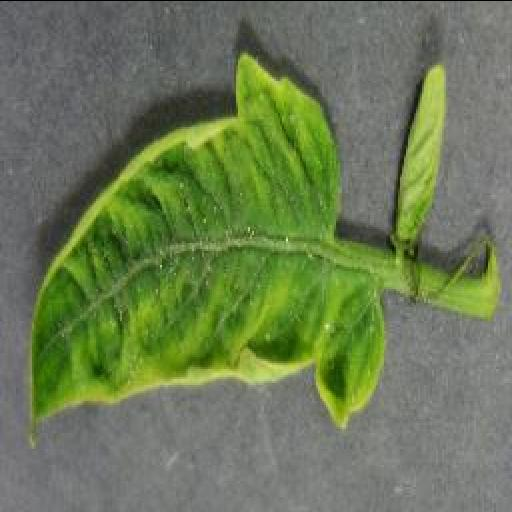disease_tomato: (23, 50, 385, 436), (394, 65, 452, 237)
